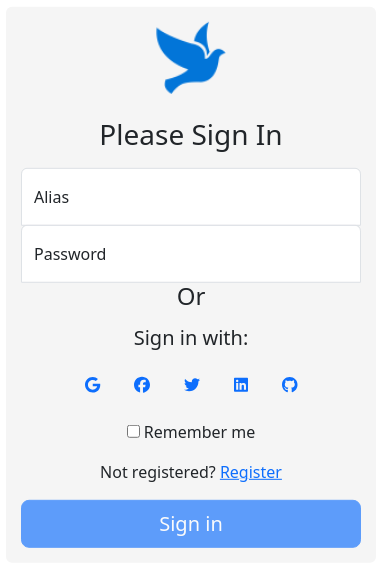
Test case: Login Component › disables the sign-in button if either the alias or password field is cleared
Step 1. Type "a" into the field labelled "Alias" → (191, 196), box [21,167,361,225]
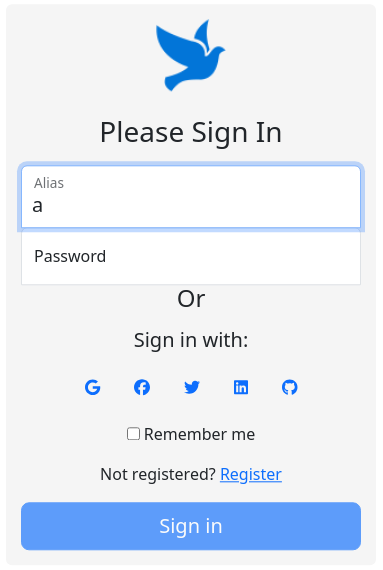
Step 2. Type "b" into the field labelled "Password" → (191, 256), box [21,227,361,285]
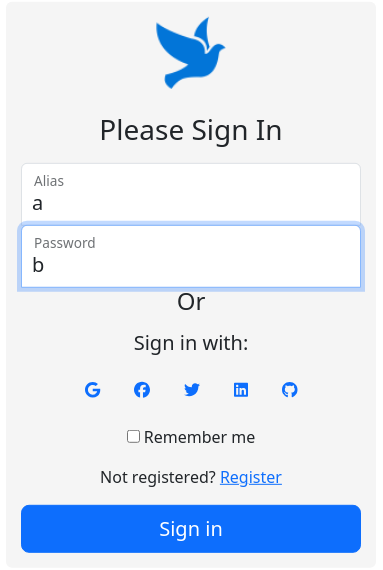
expect the button "Sign in" is enabled: met, box [21,505,361,553]
Step 3. Clear the field labelled "Alias" → (191, 194), box [21,162,361,225]
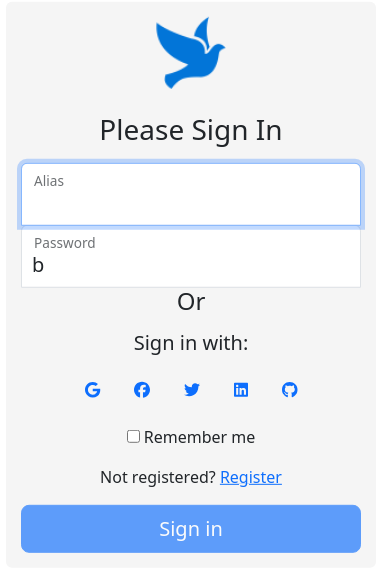
expect the button "Sign in" is disabled: met, box [21,505,361,553]
Step 4. Type "a" into the field labelled "Alias" → (191, 194), box [21,162,361,225]
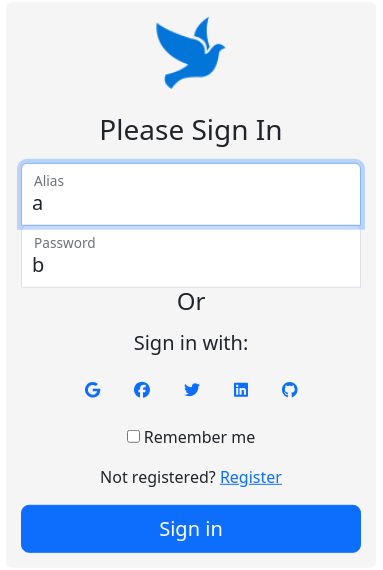
expect the button "Sign in" is enabled: met, box [21,505,361,553]
Step 5. Clear the field labelled "Password" → (191, 256), box [21,224,361,287]
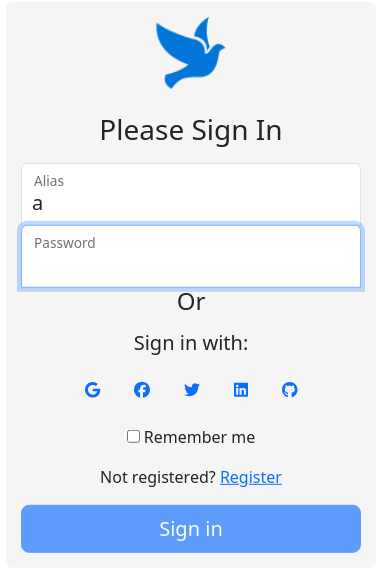
expect the button "Sign in" is disabled: met, box [21,505,361,553]
